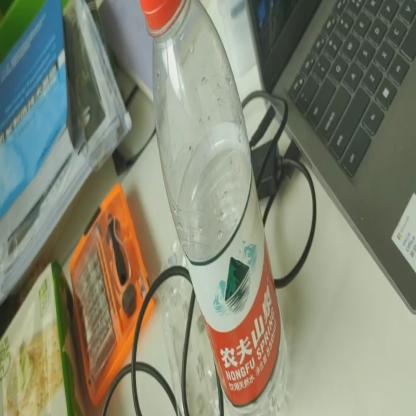Glass Bottle: (142, 0, 290, 416)
